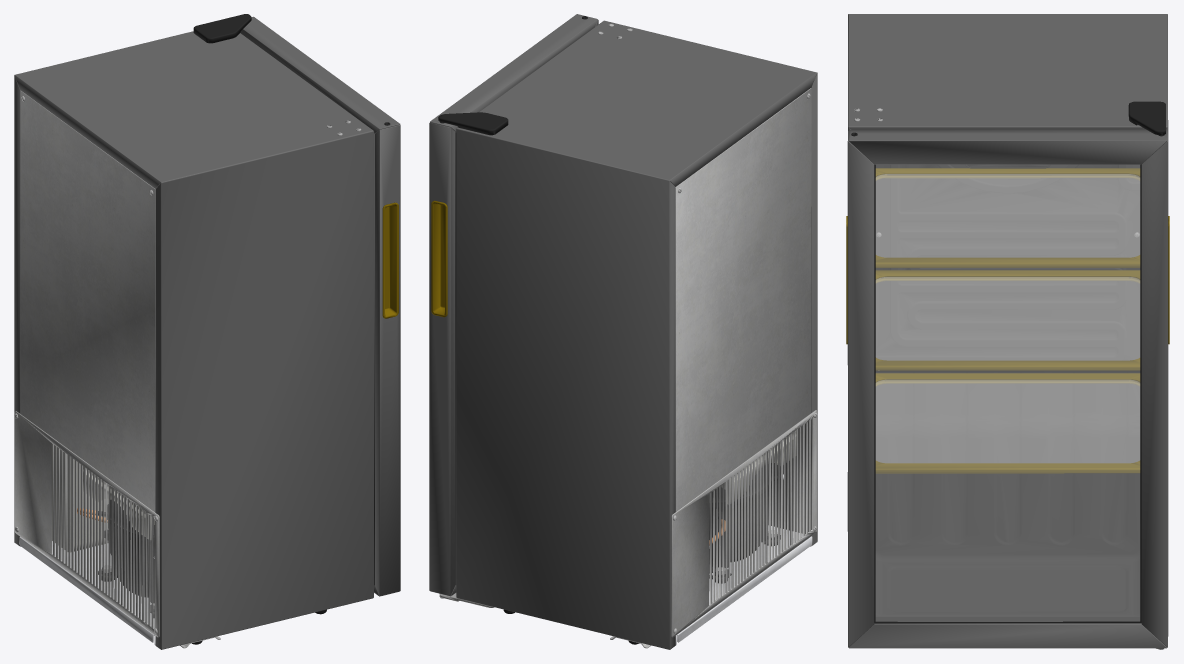
3 renders of one model, left to right at view 1: azimuth 30°, elevation 25°; view 2: azimuth 150°, elevation 25°; view 3: azimuth 270°, elevation 25°, orthographic. The views are drawn at different scales.
Parts seen in each view (by area): view 1: body_01_mesh_00 (×6), shelf_03_mesh_00; view 2: body_01_mesh_00 (×6), shelf_03_mesh_00, door_01_mesh_00; view 3: body_01_mesh_00 (×2), shelfGlass_03_mesh_00, shelf_03_mesh_00.
Part boxes in pixels (left/top/right/bottom): body_01_mesh_00 (×6): left=14, top=14, right=400, bottom=649; shelf_03_mesh_00: left=382, top=202, right=398, bottom=318; body_01_mesh_00 (×6): left=429, top=14, right=817, bottom=649; shelf_03_mesh_00: left=431, top=200, right=447, bottom=317; door_01_mesh_00: left=455, top=131, right=456, bottom=585; body_01_mesh_00 (×2): left=847, top=14, right=1168, bottom=648; shelfGlass_03_mesh_00: left=875, top=164, right=1140, bottom=621; shelf_03_mesh_00: left=846, top=168, right=1169, bottom=473.
Size of the model in its own units: 0.4548 by 0.8647 by 0.485.
Materials: 13 (6 with a texture image).
